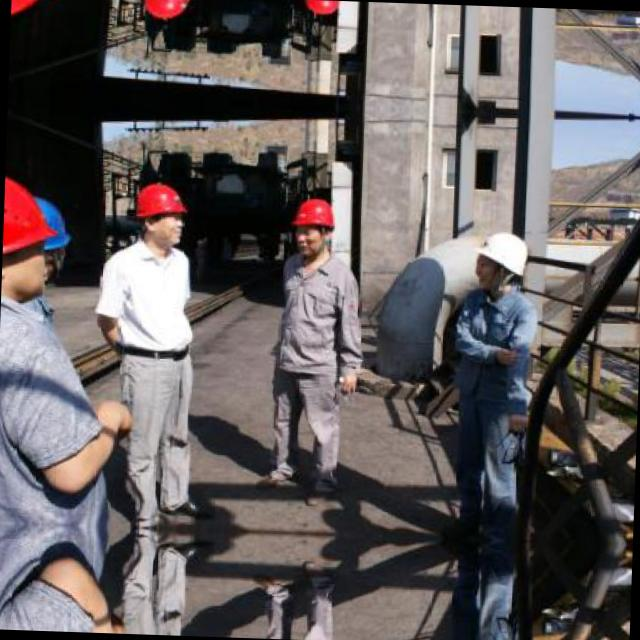helmet: (0, 171, 57, 304), (128, 174, 190, 252), (26, 190, 74, 284), (472, 226, 530, 297), (287, 189, 338, 259), (134, 0, 197, 27), (295, 0, 347, 24), (10, 0, 65, 22)
